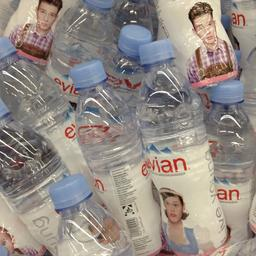water: (132, 36, 226, 254), (70, 58, 161, 255), (204, 78, 254, 246)
